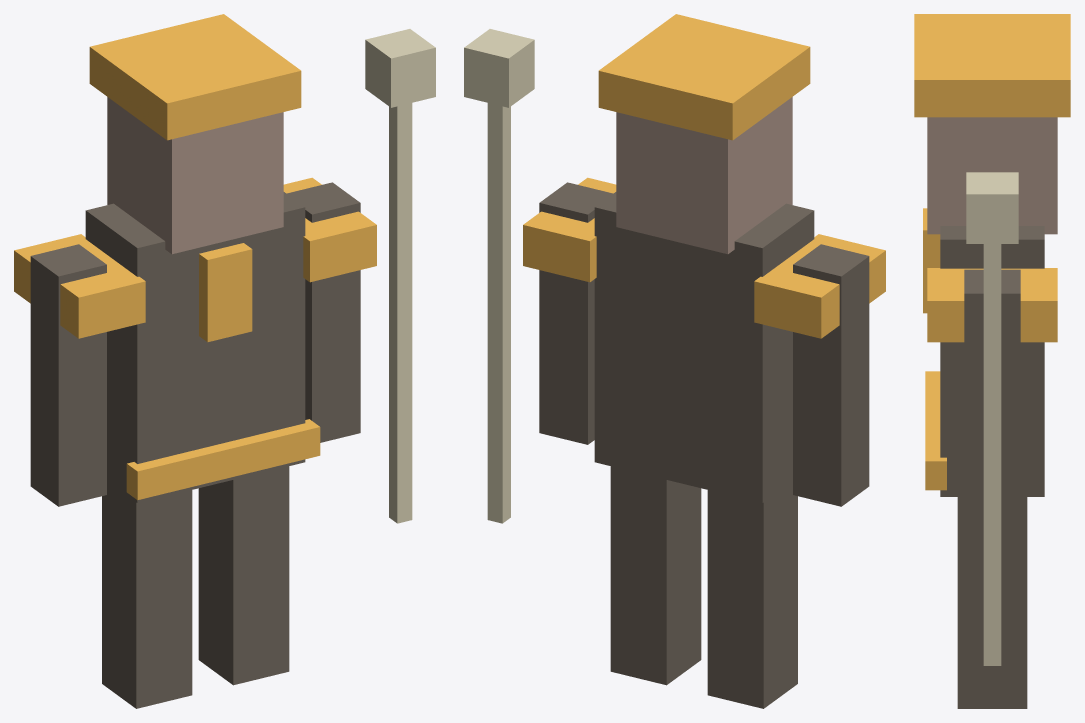
Rendered from 03_bryn_whispercoil_sentinel_at_echo.glb.
3 views of the same model, side by side, from view 1: azimuth 30°, elevation 25°; view 2: azimuth 150°, elevation 25°; view 3: azimuth 270°, elevation 25° (orthographic).
Parts seen in each view (by area): view 1: Bryn Whispercoil, Sentinel at Echo; view 2: Bryn Whispercoil, Sentinel at Echo; view 3: Bryn Whispercoil, Sentinel at Echo.
Boxes of the visible parts, x1=… form: Bryn Whispercoil, Sentinel at Echo: x1=14, y1=14, x2=435, y2=708; Bryn Whispercoil, Sentinel at Echo: x1=464, y1=14, x2=885, y2=708; Bryn Whispercoil, Sentinel at Echo: x1=914, y1=14, x2=1070, y2=708.
Bounding box in the file's own units: 1.02 × 1.6 × 0.3623.
